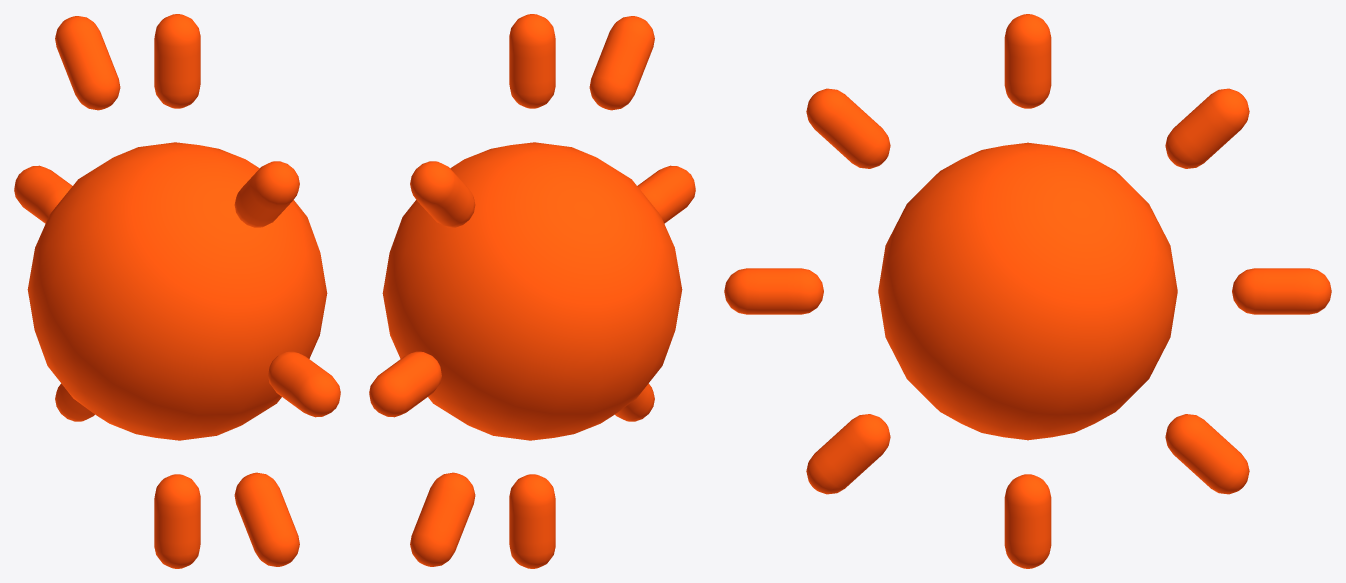
Rendered from Sun.fbx.
3 renders of one model, left to right at view 1: azimuth 30°, elevation 25°; view 2: azimuth 150°, elevation 25°; view 3: azimuth 270°, elevation 25°, orthographic.
Parts seen in each view (by area): view 1: Sun, Capsule_5, Capsule_1, Capsule_6, Capsule_2, Capsule_4, Capsule_3, Capsule_8, Capsule_7; view 2: Sun, Capsule_7, Capsule_3, Capsule_6, Capsule_2, Capsule_8, Capsule_1, Capsule_4, Capsule_5; view 3: Sun, Capsule_8, Capsule_4, Capsule_7, Capsule_5, Capsule_3, Capsule_1, Capsule_6, Capsule_2.
Boxes of the visible parts, left/top/right/bottom form: Sun: left=27, top=142, right=327, bottom=440; Capsule_5: left=234, top=472, right=299, bottom=566; Capsule_1: left=55, top=16, right=120, bottom=110; Capsule_6: left=154, top=474, right=200, bottom=568; Capsule_2: left=154, top=14, right=200, bottom=108; Capsule_4: left=268, top=351, right=340, bottom=417; Capsule_3: left=234, top=161, right=299, bottom=227; Capsule_8: left=14, top=165, right=72, bottom=223; Capsule_7: left=55, top=383, right=94, bottom=421; Sun: left=382, top=142, right=682, bottom=440; Capsule_7: left=410, top=472, right=475, bottom=566; Capsule_3: left=589, top=16, right=654, bottom=110; Capsule_6: left=509, top=474, right=555, bottom=568; Capsule_2: left=509, top=14, right=555, bottom=108; Capsule_8: left=369, top=351, right=441, bottom=417; Capsule_1: left=410, top=161, right=475, bottom=227; Capsule_4: left=637, top=165, right=695, bottom=223; Capsule_5: left=615, top=383, right=654, bottom=421; Sun: left=878, top=142, right=1177, bottom=440; Capsule_8: left=1232, top=268, right=1331, bottom=314; Capsule_4: left=724, top=268, right=823, bottom=314; Capsule_7: left=1165, top=414, right=1249, bottom=494; Capsule_5: left=806, top=414, right=890, bottom=494; Capsule_3: left=806, top=88, right=890, bottom=168; Capsule_1: left=1165, top=88, right=1249, bottom=168; Capsule_6: left=1004, top=474, right=1051, bottom=568; Capsule_2: left=1004, top=14, right=1051, bottom=108.
Bounding box in the file's own units: 360 × 730 × 730.
